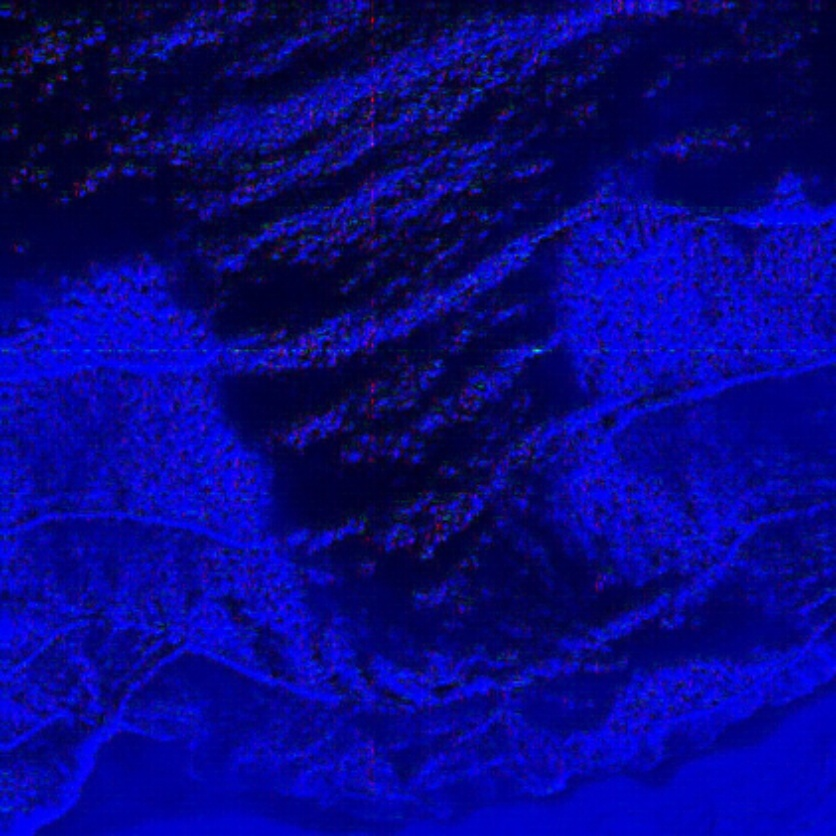rip_current: (127, 160, 682, 682)
